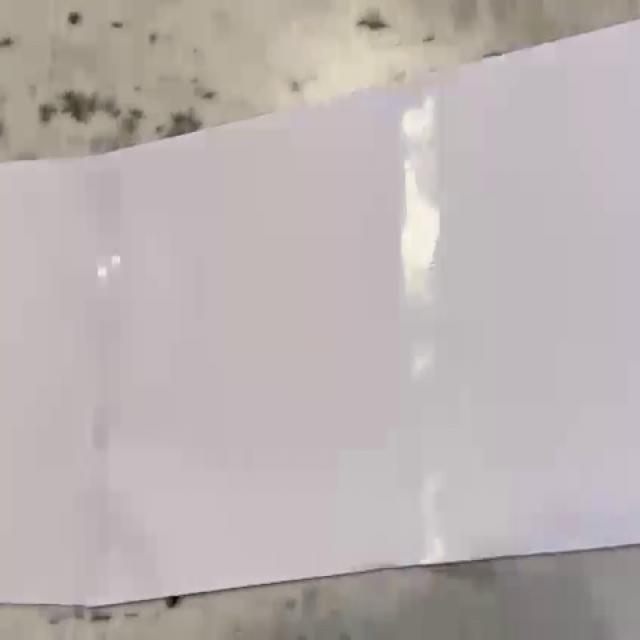road: (0, 20, 640, 607)
